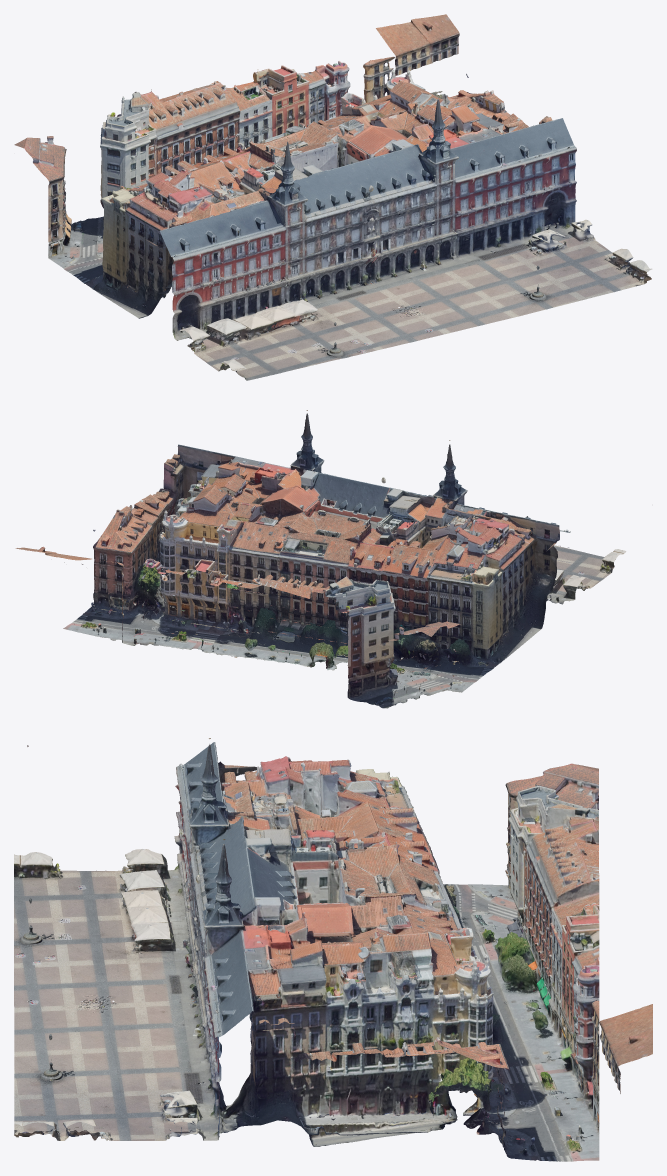
Rendered from exterior.glb.
3 views of the same model, one above another, from view 1: azimuth 30°, elevation 25°; view 2: azimuth 150°, elevation 25°; view 3: azimuth 270°, elevation 25° (orthographic). The views are drawn at different scales.
Bounding box in the file's own units: 117 × 41.52 × 101.
335 materials, 335 textured.
